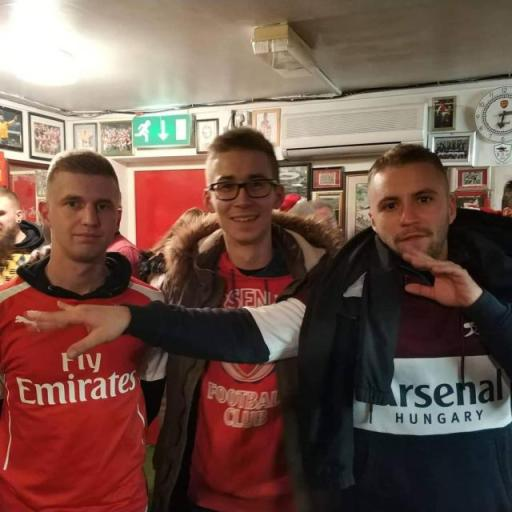Emirates: (14, 346, 139, 408)
